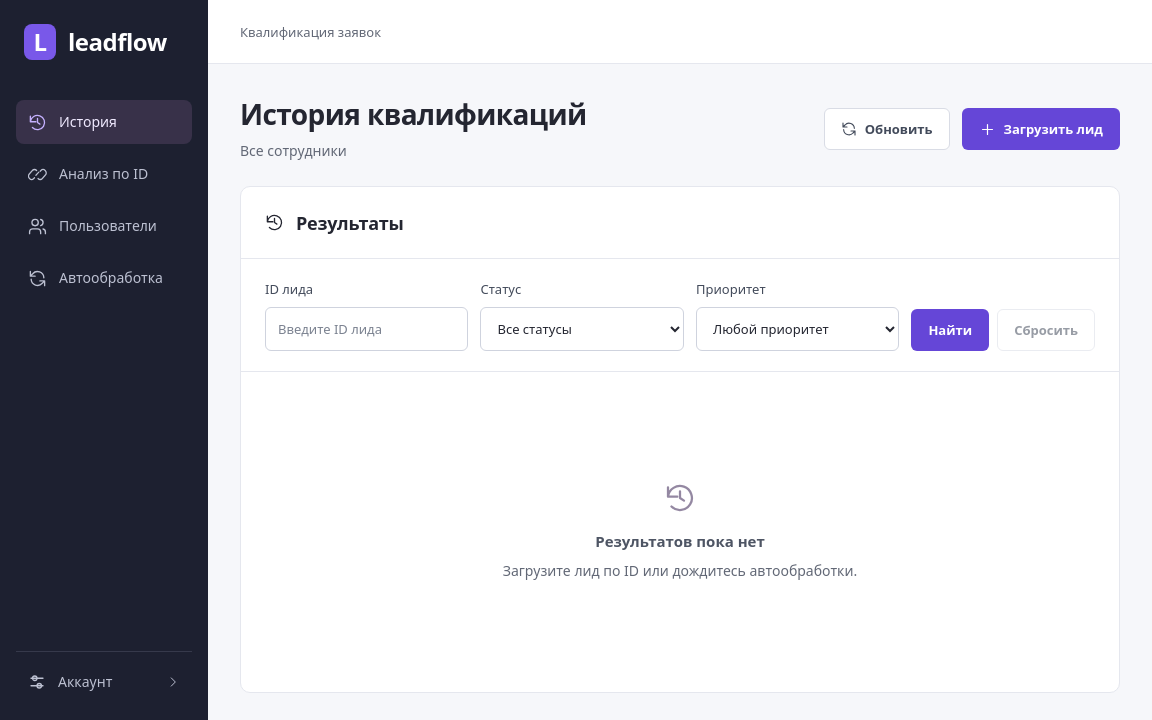
qualification interface › shows user administration navigation only for admins
Click the button "Пользователи": (104, 226) [16, 204, 192, 248]
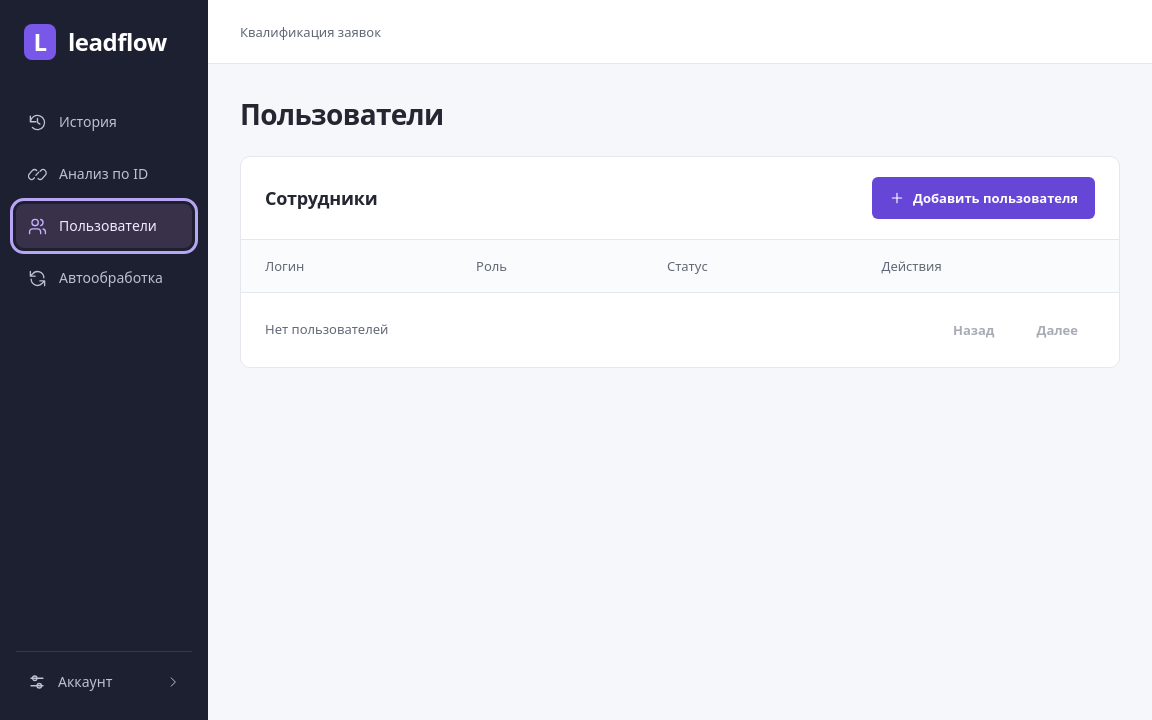
Expected: the heading "Пользователи" is shown, [240, 96, 444, 132]
Expected: the button "Добавить пользователя" is shown, [872, 177, 1095, 219]
